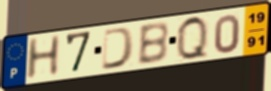0: (212, 12, 242, 55)
7: (65, 30, 93, 76)
B: (136, 21, 171, 67)
D: (100, 25, 136, 71)
H: (24, 33, 63, 82)
Q: (175, 14, 210, 62)
